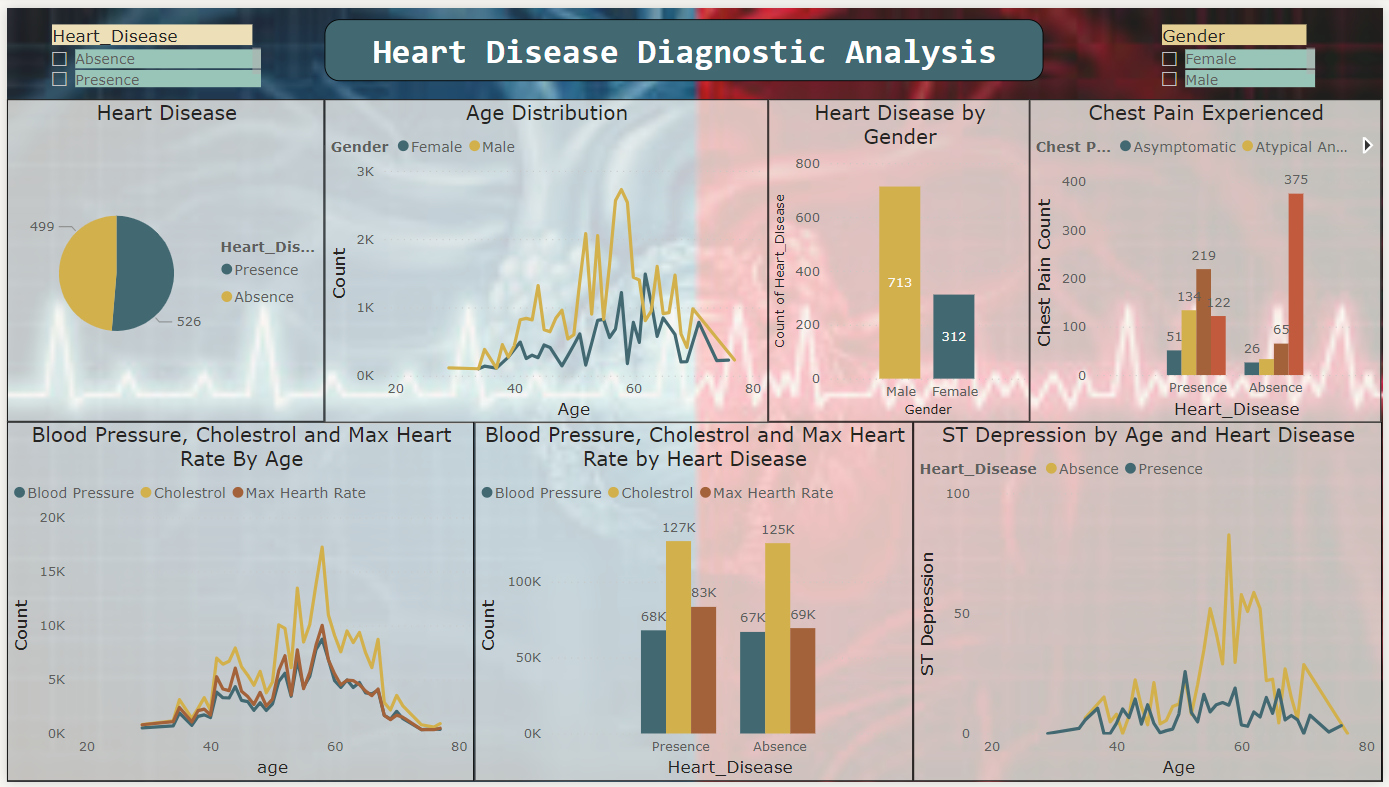

What the dashboard file says about the page in this screenshot:
{"tool":"powerbi","page":{"name":"Dashboard","canvas":[1280,720],"ordinal":0},"visuals":[{"type":"columnChart","title":"Heart Disease by Gender","fields":{"Category":["Final Heart Disease data.Gender"],"Y":["CountNonNull(Final Heart Disease data.Heart_Disease)"],"Series":["Final Heart Disease data.Gender"]},"box":[708.1,84.8,243.6,299.7],"z":0},{"type":"pieChart","title":"Heart Disease","fields":{"Category":["Final Heart Disease data.Heart_Disease"],"Y":["CountNonNull(Final Heart Disease data.Heart_Disease)"]},"box":[0,84.4,295.5,300.3],"z":1000},{"type":"lineChart","title":"Age Distribution","fields":{"Category":["Final Heart Disease data.age"],"Y":["Sum(Final Heart Disease data.age)"],"Series":["Final Heart Disease data.Gender"]},"box":[295.5,84.4,412.5,301.5],"z":2000},{"type":"clusteredColumnChart","title":"Chest Pain Experienced","fields":{"Category":["Final Heart Disease data.Heart_Disease"],"Y":["CountNonNull(Final Heart Disease data.Chest pain)"],"Series":["Final Heart Disease data.Chest pain"]},"box":[951.6,84.8,327.2,300.9],"z":3000},{"type":"lineChart","title":"Blood Pressure, Cholestrol and Max Heart Rate By Age","fields":{"Y":["Sum(Final Heart Disease data.Blood Pressure)","Sum(Final Heart Disease data.Cholestrol)","Sum(Final Heart Disease data.Max Hearth Rate)"],"Category":["Final Heart Disease data.age"]},"box":[0,384.5,434.6,334.3],"z":4000},{"type":"clusteredColumnChart","title":"Blood Pressure, Cholestrol and Max Heart Rate by Heart Disease","fields":{"Category":["Final Heart Disease data.Heart_Disease"],"Y":["Sum(Final Heart Disease data.Blood Pressure)","Sum(Final Heart Disease data.Cholestrol)","Sum(Final Heart Disease data.Max Hearth Rate)"]},"box":[434.6,384.5,408.4,334.3],"z":5000},{"type":"lineChart","title":"ST Depression by Age and Heart Disease","fields":{"Category":["Final Heart Disease data.age"],"Y":["Sum(Final Heart Disease data.oldpeak)"],"Series":["Final Heart Disease data.Heart_Disease"]},"box":[843,384.5,435.8,334.3],"z":6000},{"type":"slicer","fields":{"Values":["Final Heart Disease data.Gender"]},"box":[1061.5,10.7,160,68.1],"z":7000},{"type":"slicer","fields":{"Values":["Final Heart Disease data.Heart_Disease"]},"box":[28.7,10.7,212.5,68.1],"z":8000},{"type":"textbox","box":[294.9,10.7,668.7,57.3],"z":9000}]}

Visuals, with their boxes in screenshot pixels (x1, y1, x2, y2), scaled from the page's 1280x720 canvas onto the 1389x787 screenshot:
"Heart Disease by Gender" columnChart: <box>768,93,1033,420</box>
"Heart Disease" pieChart: <box>0,92,321,420</box>
"Age Distribution" lineChart: <box>321,92,768,422</box>
"Chest Pain Experienced" clusteredColumnChart: <box>1033,93,1388,422</box>
"Blood Pressure, Cholestrol and Max Heart Rate By Age" lineChart: <box>0,420,472,786</box>
"Blood Pressure, Cholestrol and Max Heart Rate by Heart Disease" clusteredColumnChart: <box>472,420,915,786</box>
"ST Depression by Age and Heart Disease" lineChart: <box>915,420,1388,786</box>
slicer - Final Heart Disease data.Gender: <box>1152,12,1326,86</box>
slicer - Final Heart Disease data.Heart_Disease: <box>31,12,262,86</box>
textbox: <box>320,12,1046,74</box>
